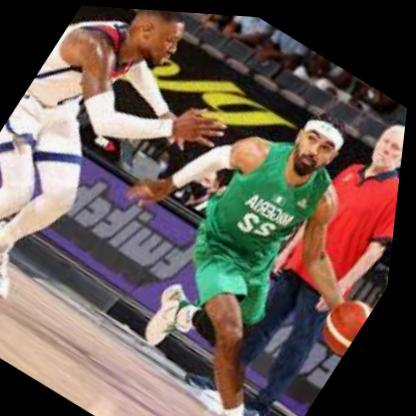basketball: (319, 282, 382, 354)
